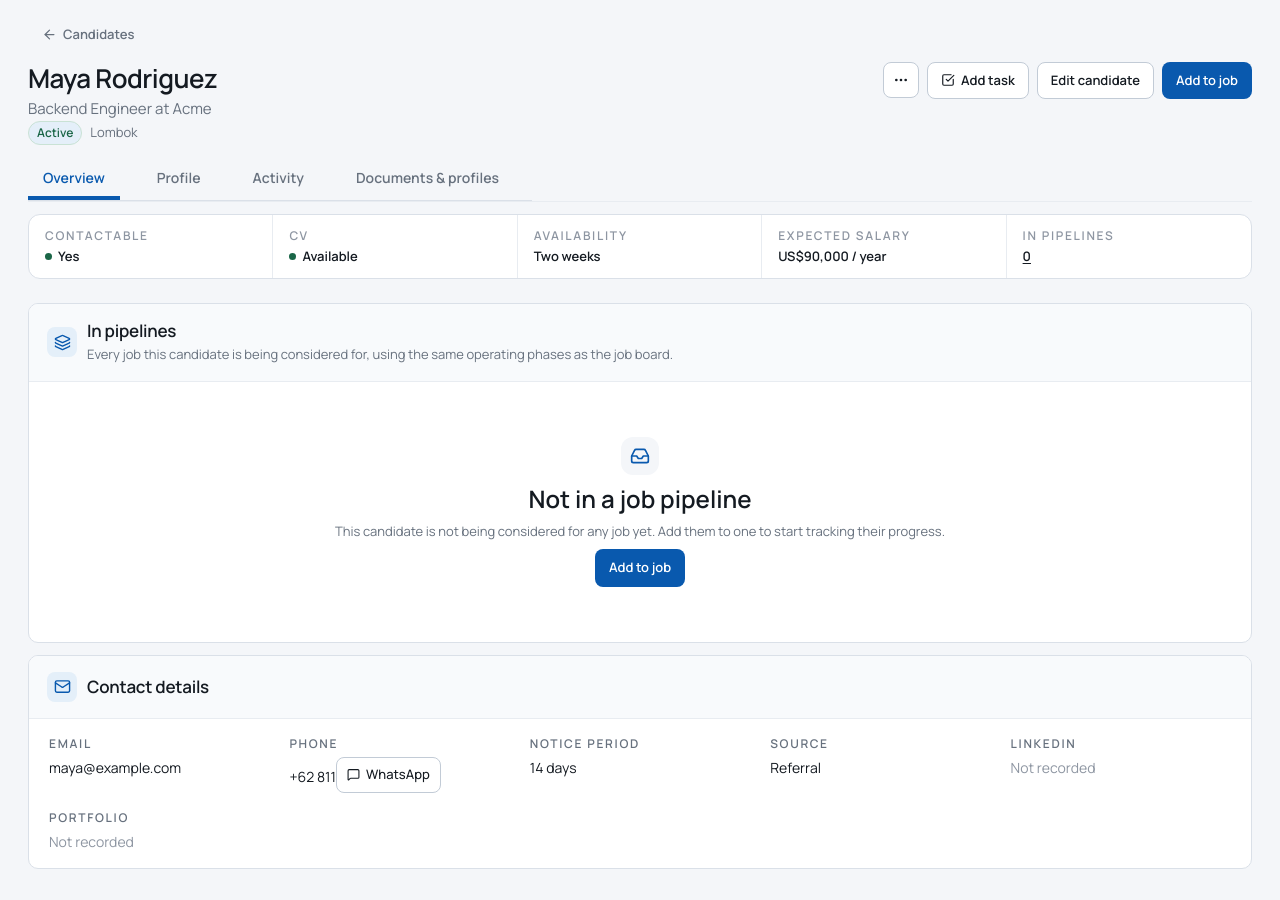
it: CandidateDetailPage › keeps the client-profile and archive actions available behind the overflow menu
Expected: the heading "Maya Rodriguez" is shown, left=28, top=64, right=217, bottom=93
Expected: the button "Add to job" in the row of "Maya Rodriguez" is shown, left=1162, top=62, right=1252, bottom=99
What coordinates should you click on to do the following:
click the button named "More actions"
I would click on:
 (901, 80)
Its box is left=883, top=62, right=919, bottom=98.
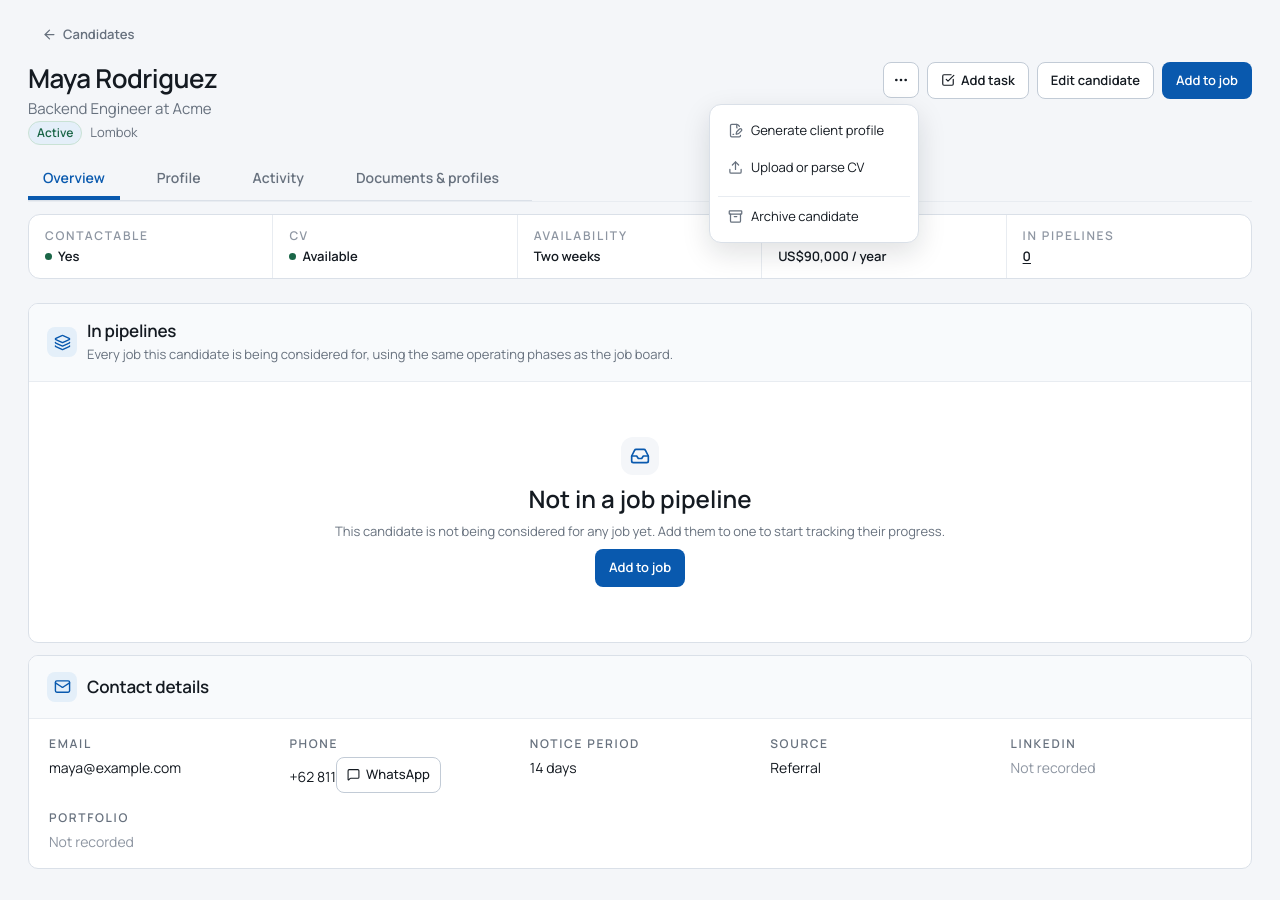
Expected: the menu item "Generate client profile" is shown, left=718, top=112, right=910, bottom=148
Expected: the menu item "Upload or parse CV" is shown, left=718, top=150, right=910, bottom=186
Expected: the menu item "Archive candidate" is shown, left=718, top=196, right=910, bottom=234
